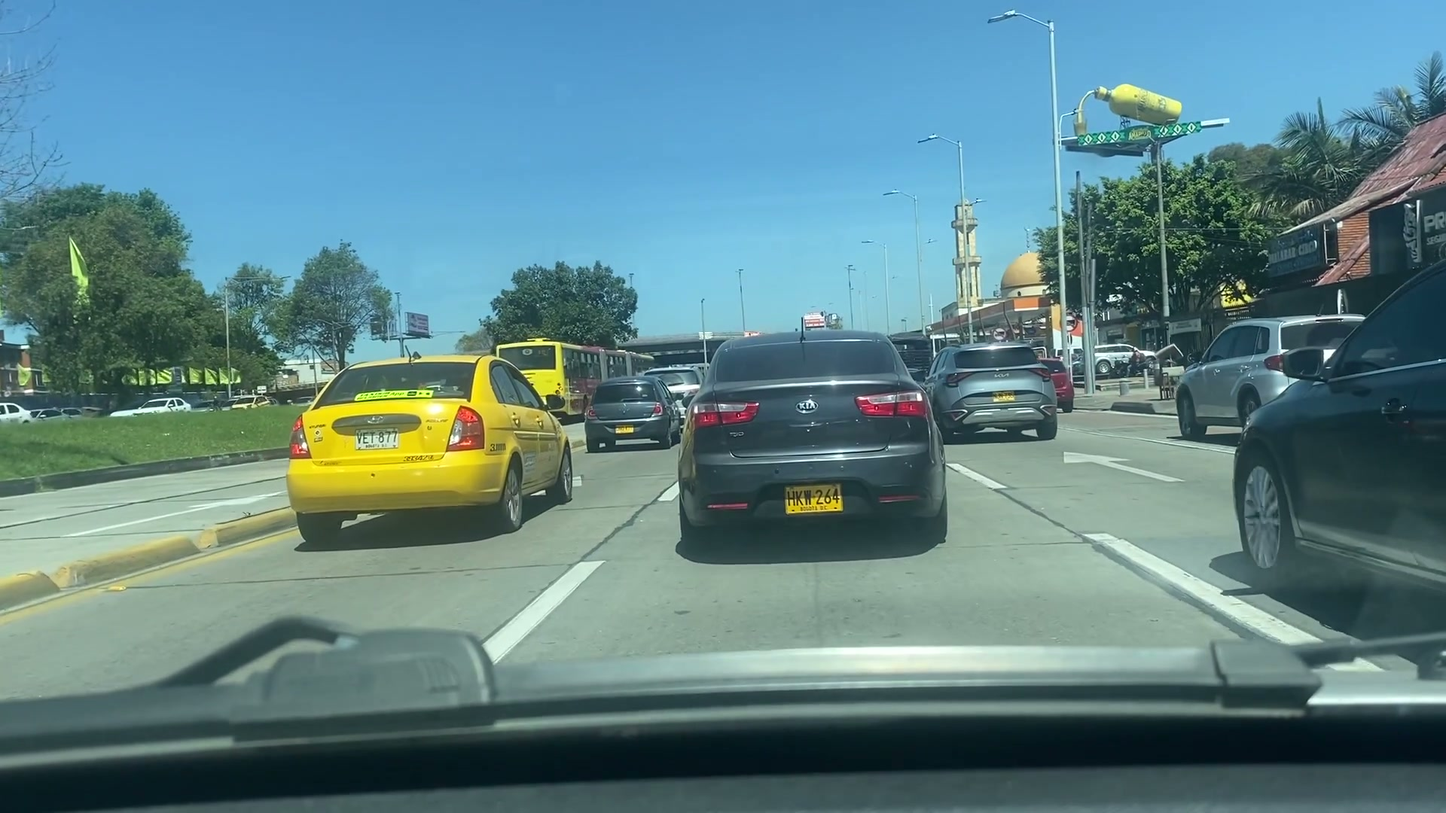car: (1231, 250, 1446, 625), (678, 333, 953, 538), (283, 358, 578, 545), (1175, 316, 1366, 439), (917, 337, 1056, 434), (587, 372, 683, 449), (133, 395, 196, 415), (228, 394, 273, 412)
